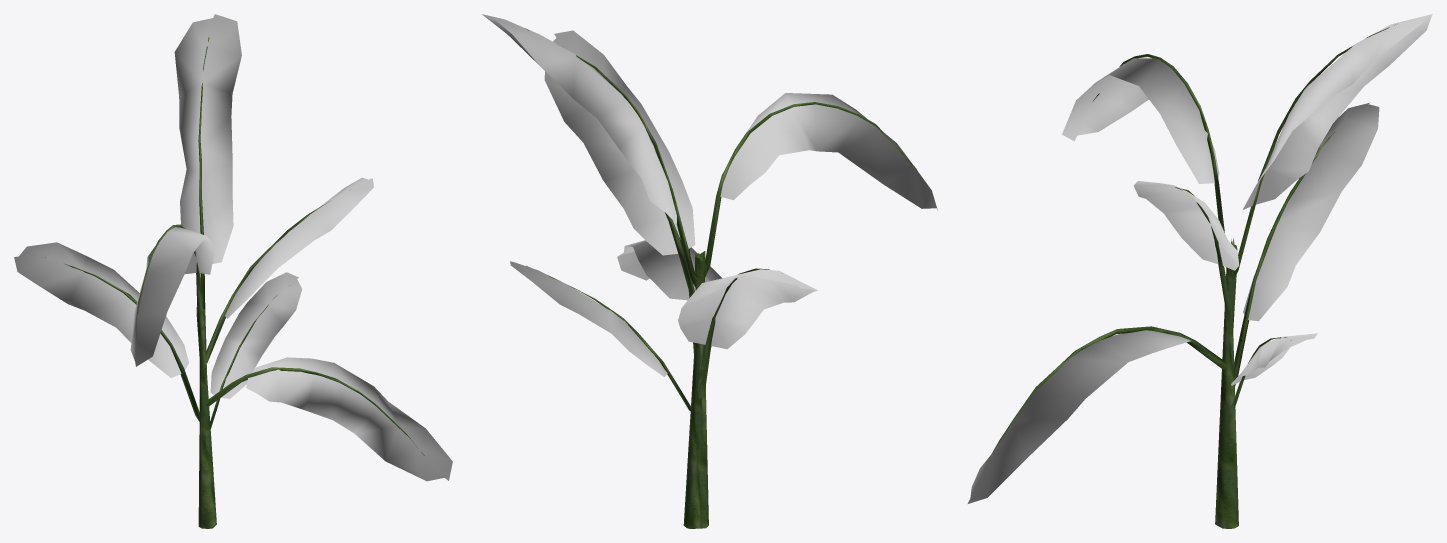
File: Grass03.fbx
3 views of the same model, side by side, from view 1: azimuth 30°, elevation 25°; view 2: azimuth 150°, elevation 25°; view 3: azimuth 270°, elevation 25° (orthographic). The views are drawn at different scales.
Parts seen in each view (by area): view 1: SM_pal_b00_banana_small.mo; view 2: SM_pal_b00_banana_small.mo; view 3: SM_pal_b00_banana_small.mo.
Boxes of the visible parts, x1=… form: SM_pal_b00_banana_small.mo: x1=14, y1=14, x2=452, y2=528; SM_pal_b00_banana_small.mo: x1=481, y1=14, x2=937, y2=528; SM_pal_b00_banana_small.mo: x1=967, y1=14, x2=1432, y2=528.
Bounding box in the file's own units: 114 × 161 × 121.
